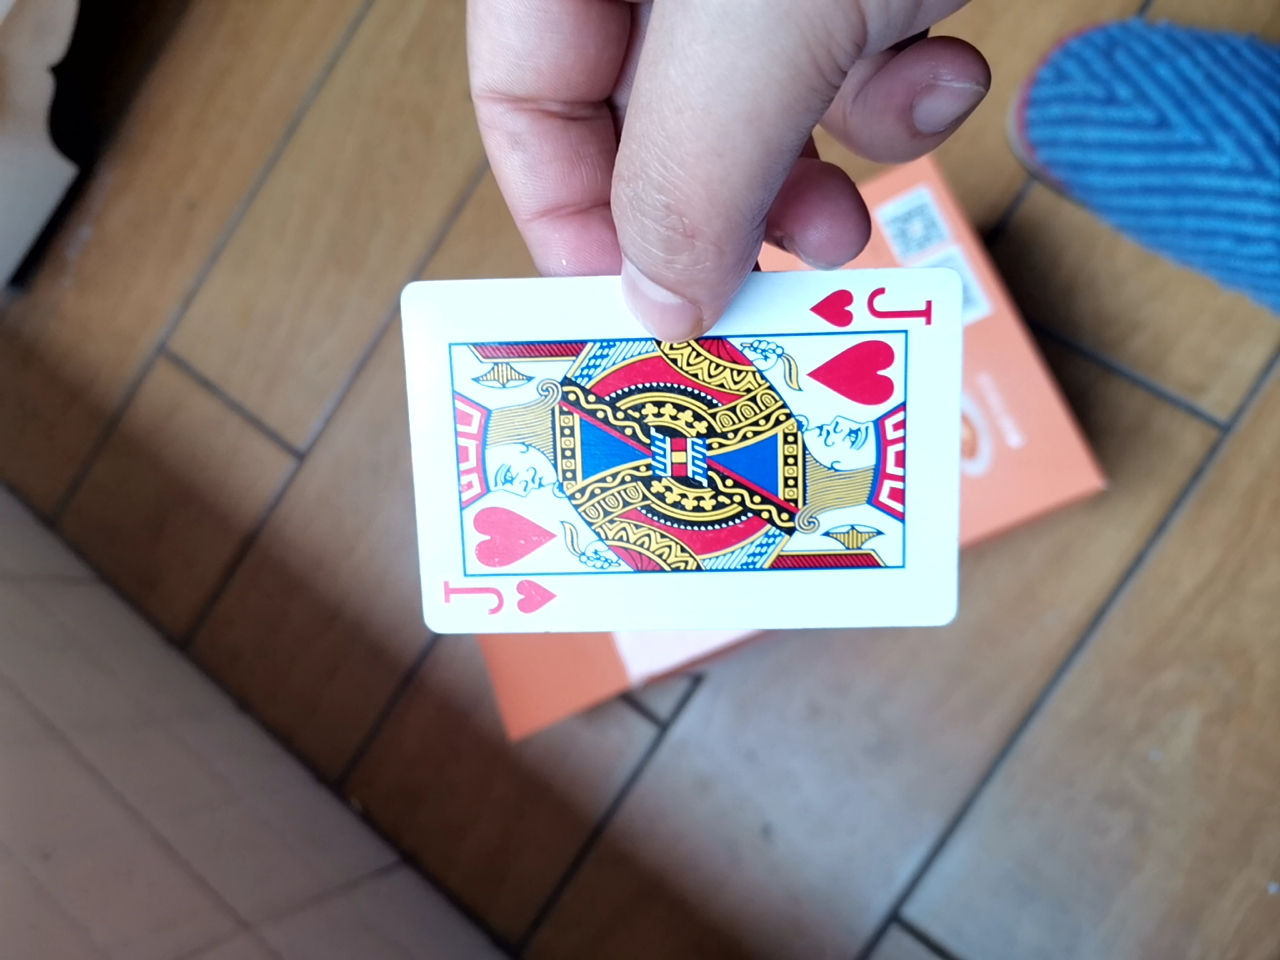hx j: (378, 221, 993, 682)
